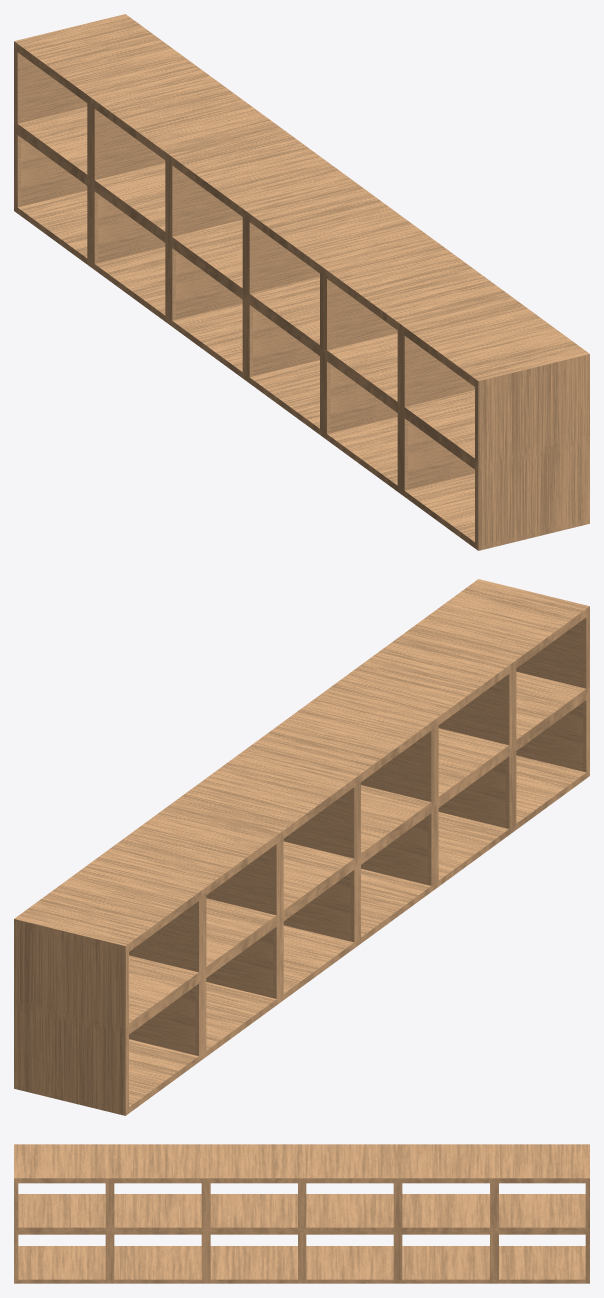
File: LV1_BagCupboard.fbx
The picture shows the model from 3 angles, top to bottom: view 1: azimuth 30°, elevation 25°; view 2: azimuth 150°, elevation 25°; view 3: azimuth 270°, elevation 25°; orthographic projection. The views are drawn at different scales.
Visible parts, largest first — view 1: BagCupboard1; view 2: BagCupboard1; view 3: BagCupboard1.
Part boxes in pixels (<box>): BagCupboard1: <box>14,14,589,550</box>; BagCupboard1: <box>14,579,589,1115</box>; BagCupboard1: <box>14,1144,589,1283</box>.
Bounding box in the file's own units: 1.01 × 1.47 × 7.28.
